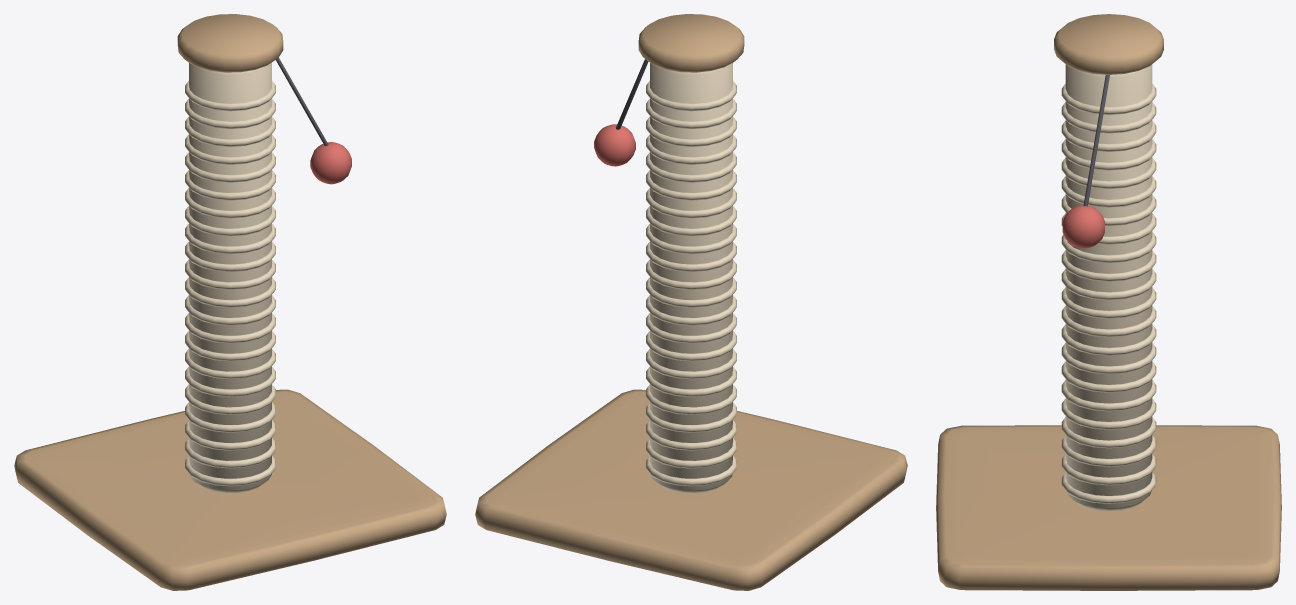
File: cat-tree.glb
3 views of the same model, side by side, from view 1: azimuth 30°, elevation 25°; view 2: azimuth 150°, elevation 25°; view 3: azimuth 270°, elevation 25° (orthographic). The views are drawn at different scales.
Parts seen in each view (by area): view 1: scratching-post; view 2: scratching-post; view 3: scratching-post.
Part boxes in pixels (x1,y1,x2,y2): scratching-post: (14, 14, 446, 590); scratching-post: (475, 14, 907, 590); scratching-post: (936, 14, 1281, 590).
Bounding box in the file's own units: 0.44 × 0.681 × 0.44.
